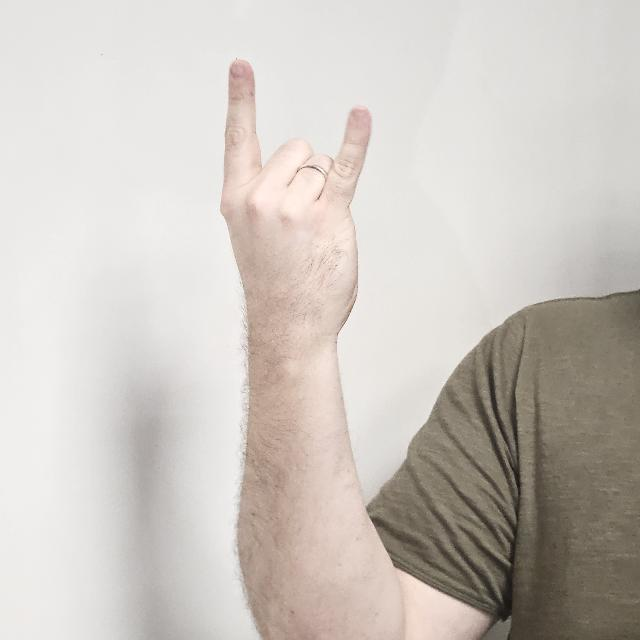L: (213, 55, 373, 359)
